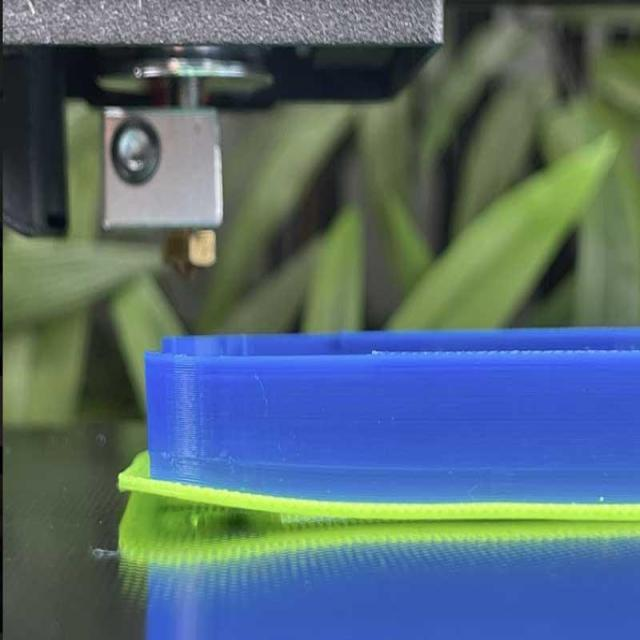Warping: (114, 462, 286, 536)
